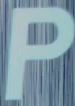Parking: (7, 5, 69, 97)
